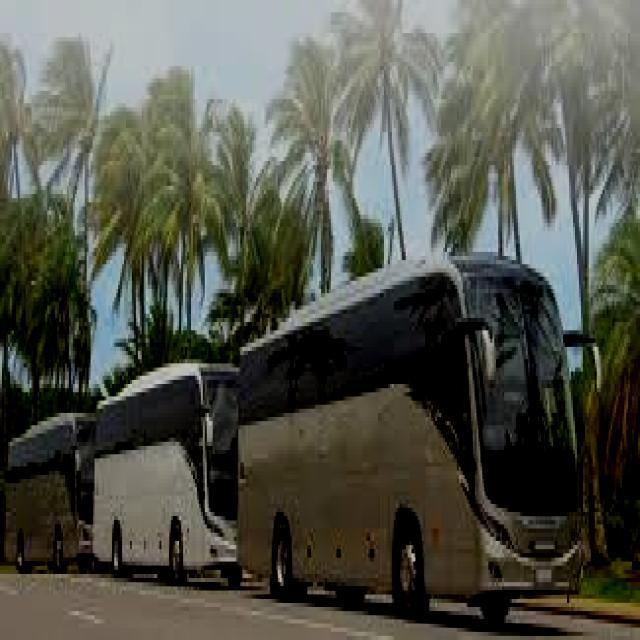Bus: (225, 237, 593, 625), (85, 359, 247, 596), (4, 391, 95, 582)
